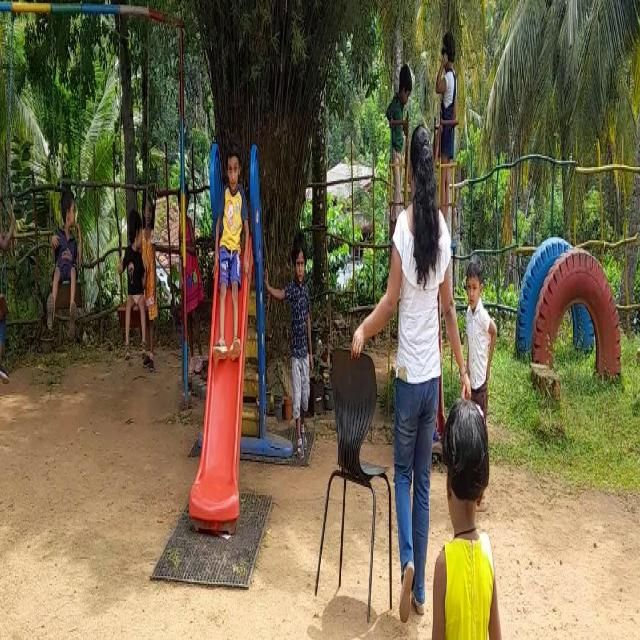adult: (381, 134, 445, 626)
child: (432, 404, 504, 640), (212, 138, 248, 355), (114, 205, 156, 373), (42, 176, 81, 332), (287, 224, 315, 441), (465, 246, 502, 394), (438, 32, 463, 196), (388, 57, 411, 199)
